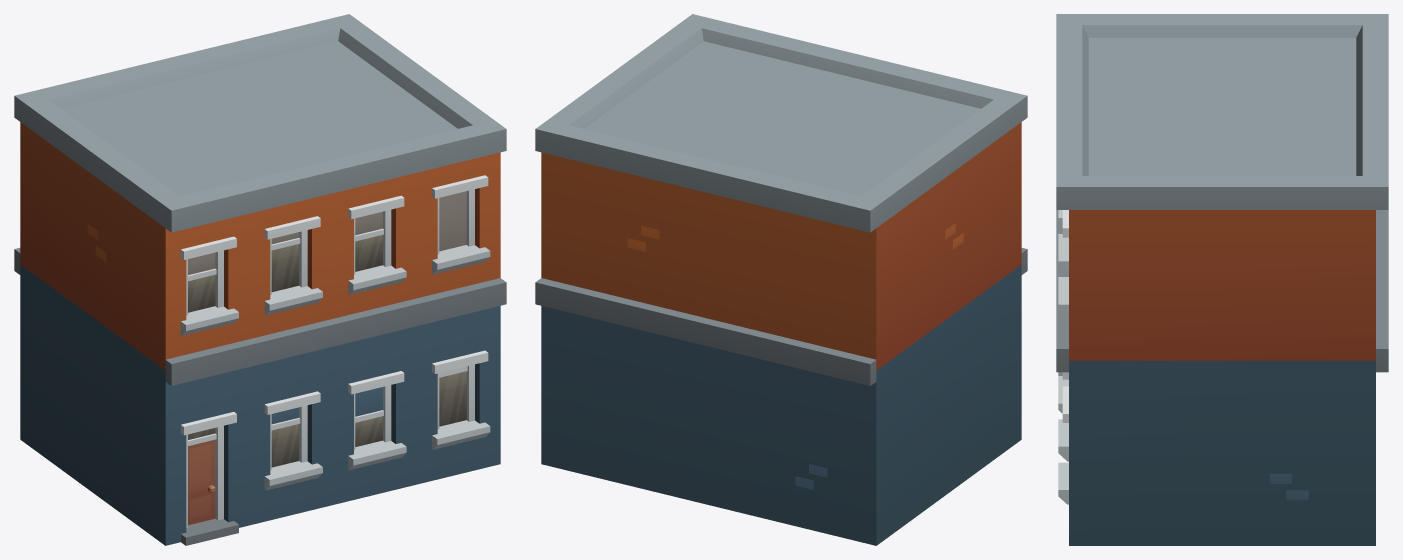
File: building_B_withoutBase-processed.glb
3 views of the same model, side by side, from view 1: azimuth 30°, elevation 25°; view 2: azimuth 150°, elevation 25°; view 3: azimuth 270°, elevation 25° (orthographic). The views are drawn at different scales.
Visible parts, largest first — view 1: building_B_withoutBase; view 2: building_B_withoutBase; view 3: building_B_withoutBase.
Part boxes in pixels (x1,y1,x2,y2): building_B_withoutBase: [14, 14, 506, 545]; building_B_withoutBase: [535, 14, 1027, 545]; building_B_withoutBase: [1056, 14, 1388, 545].
Size of the model in its own units: 1.61 by 1.55 by 1.3.
1 material, 1 textured.
